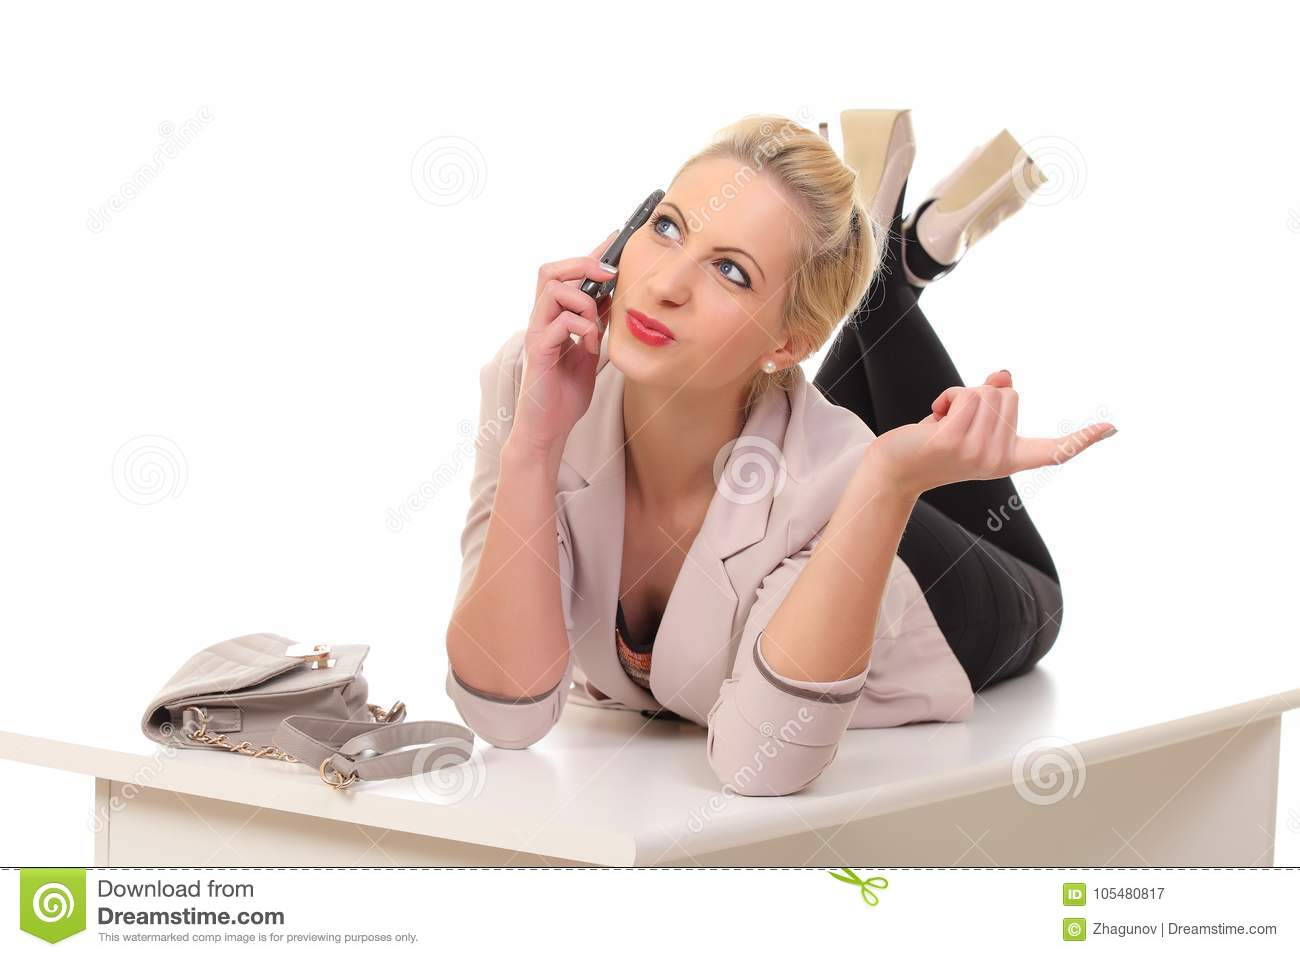phone: (569, 180, 667, 328)
talk: (506, 182, 780, 434)
